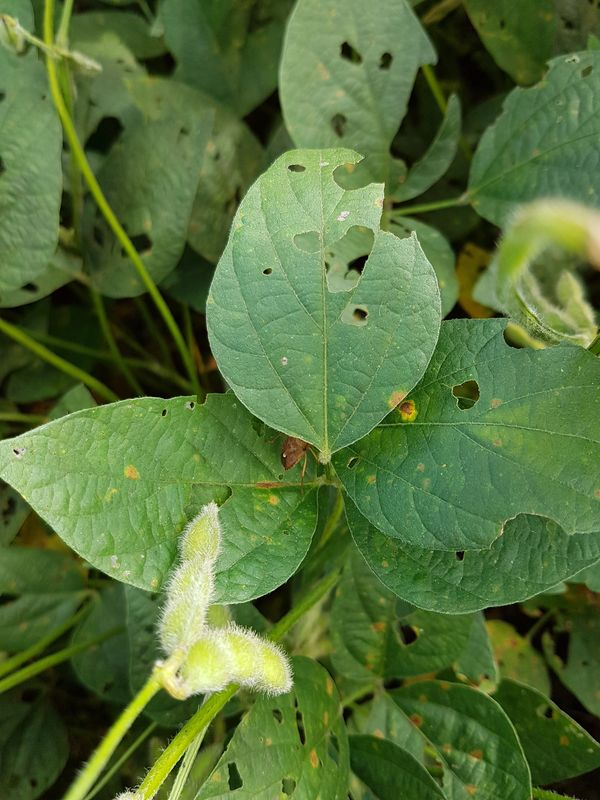Euschistus_heros_adulto: (264, 420, 332, 485)
